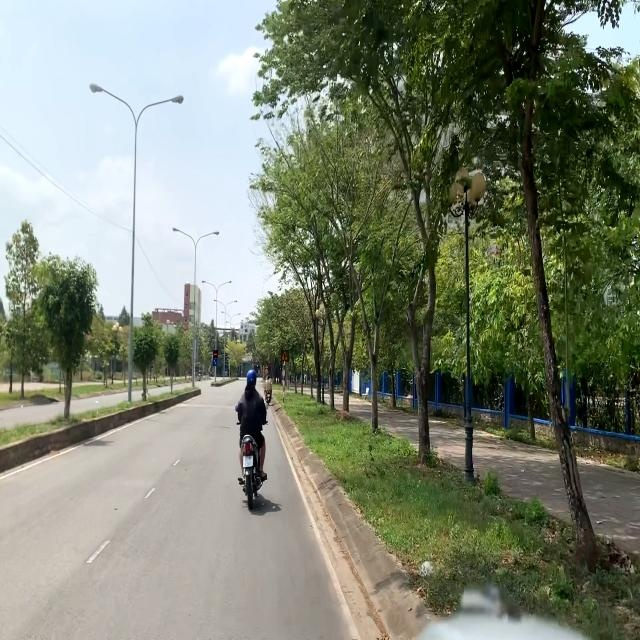bien_cam: (281, 350, 289, 362), (213, 350, 218, 358), (213, 358, 217, 366)
